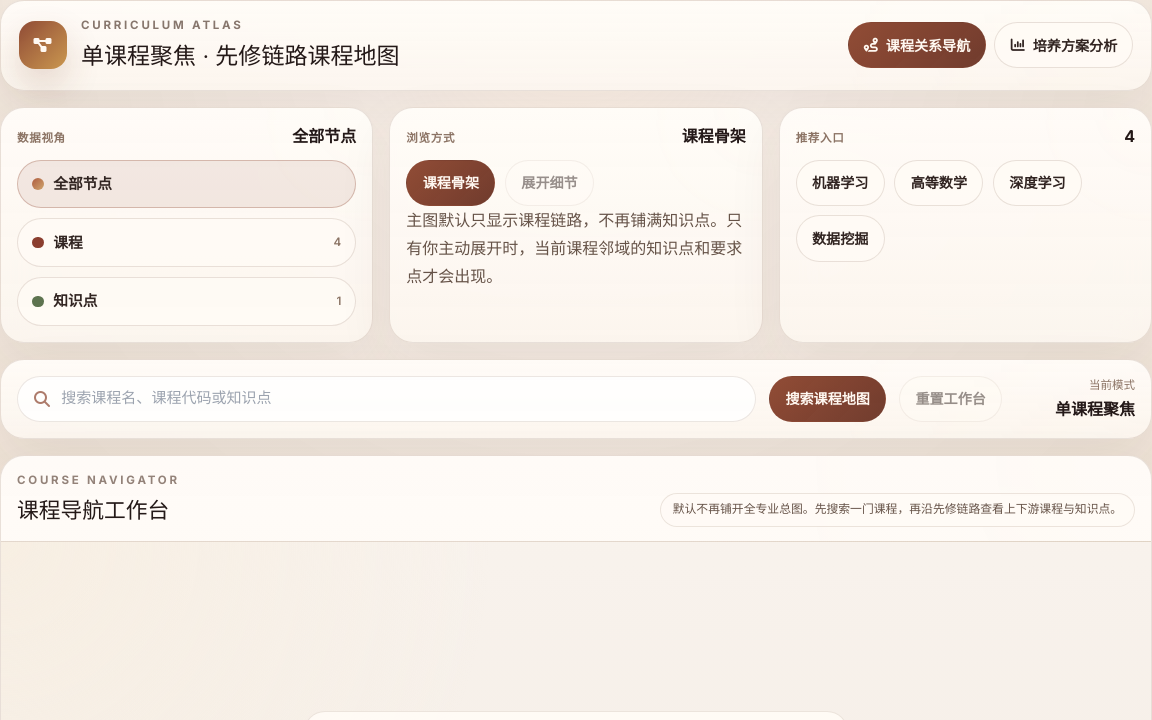
KnowledgeGraph › switches to alignment analysis and renders the diagnostics panel
This screenshot has width=1152, height=720.
Click the button "培养方案分析". click: (1064,45)
box: [994,22,1133,68]
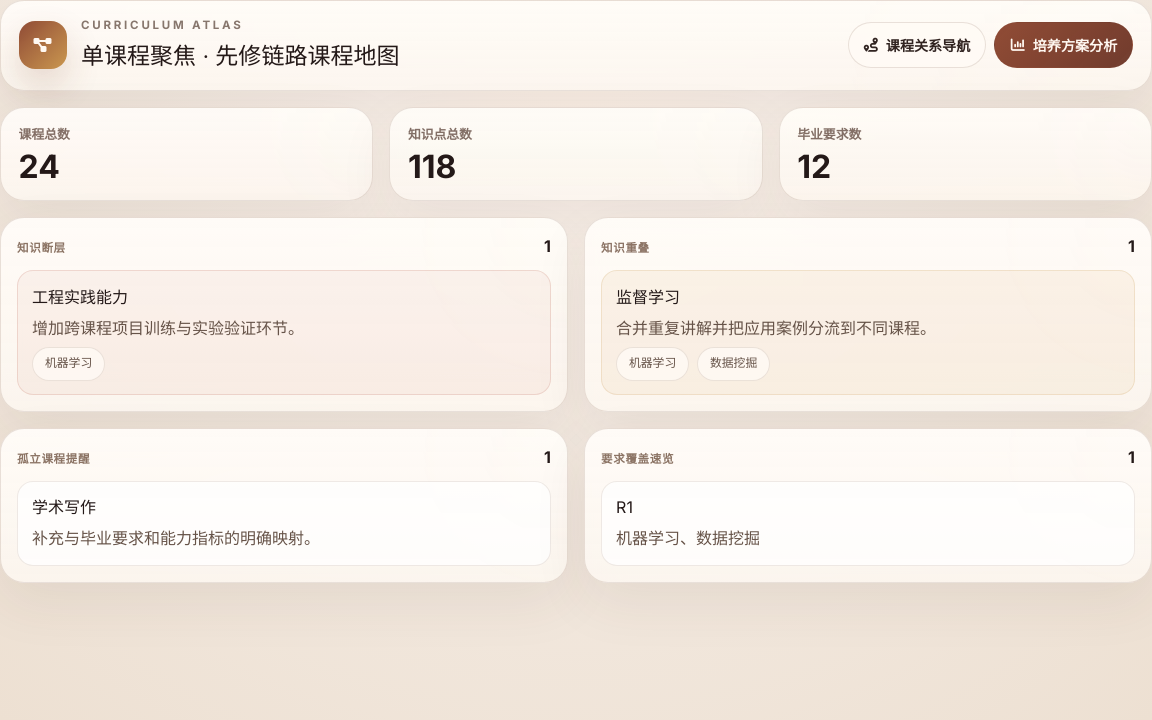
Expected: the element with test id "alignment-panel" shows "知识断层", [17,241,66,255]
Expected: the text "工程实践能力" is shown, [32,286,128,306]
Expected: the text "孤立课程提醒" is shown, [17,451,90,468]
